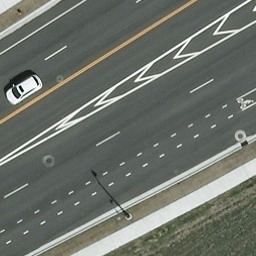car: (4, 73, 43, 107)
